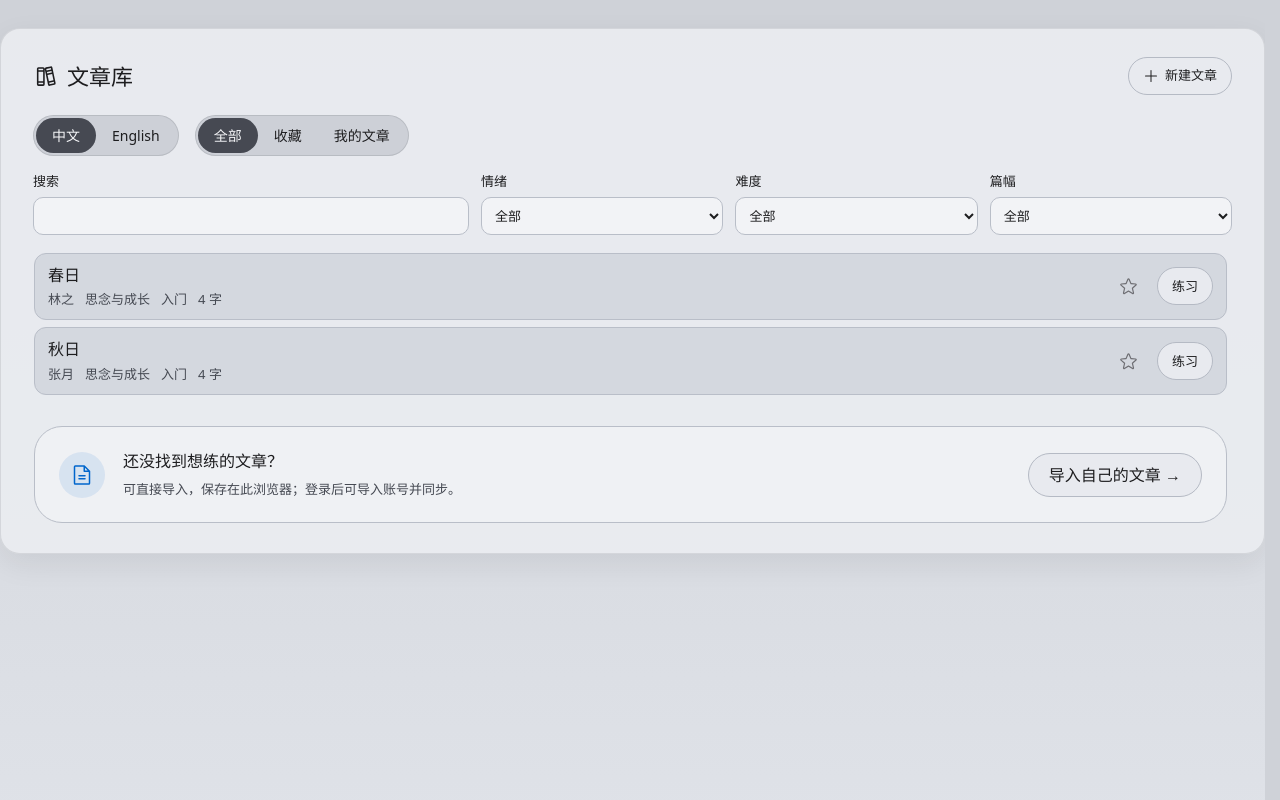
article library › applies author search to favorites and recovers when search is cleared
Click the button named "收藏《春日》" at point(1129, 286), box 1109,266 -> 1149,306
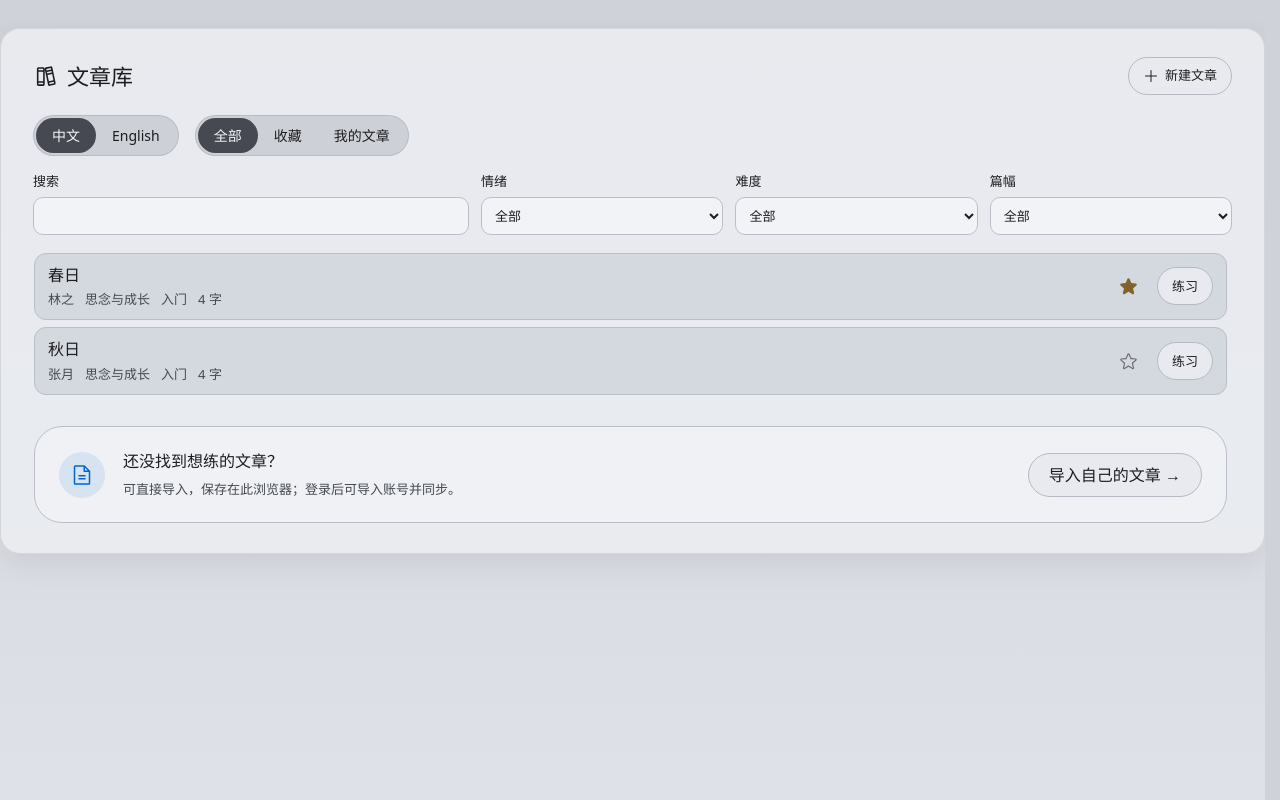
Click the button "收藏" at point(288, 136), box 258,118 -> 318,153
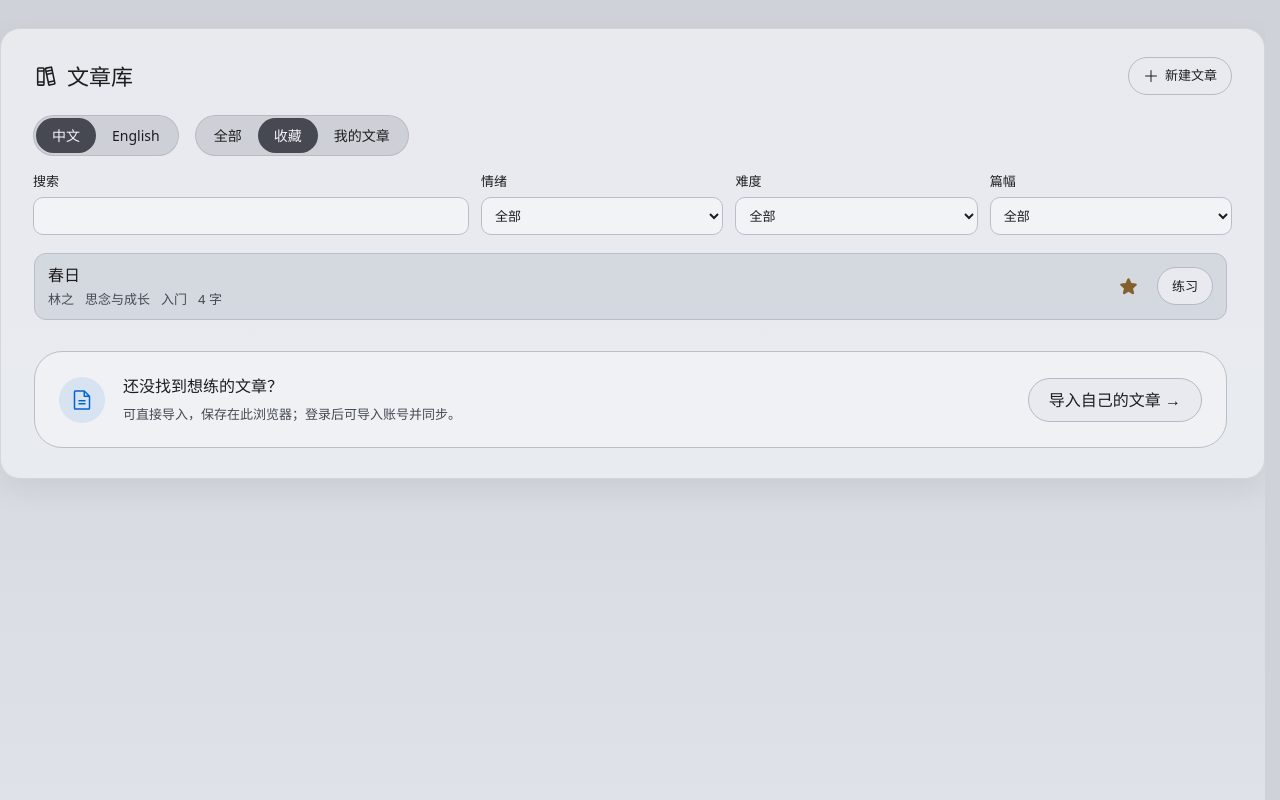
Type "张月" into the search field labelled "搜索" at point(251, 216), box 33,196 -> 469,234
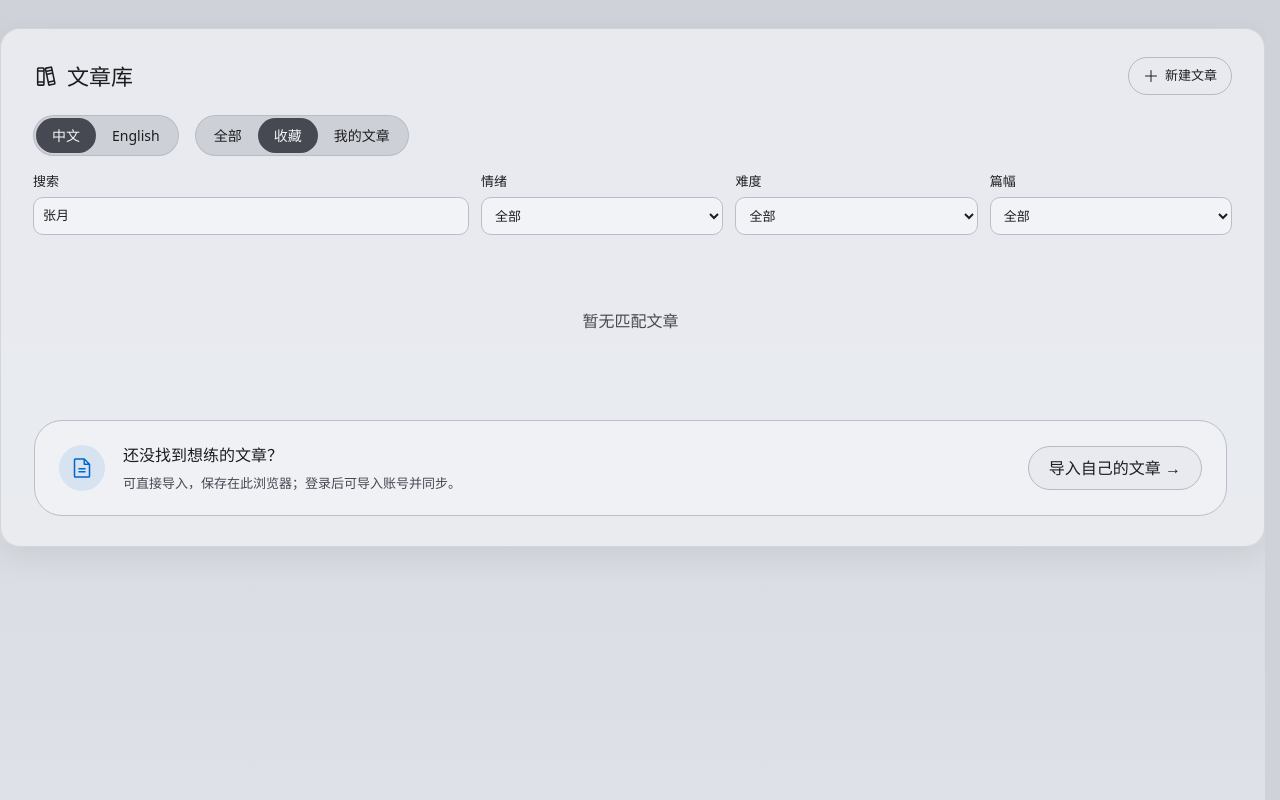
Check: the heading "秋日" is not shown
Check: the heading "春日" is gone
Check: the text "暂无匹配文章" is shown, box 582,310 -> 678,332
Replace the text in the search field labelled "搜索" with "林之" at point(251, 216), box 33,196 -> 469,234
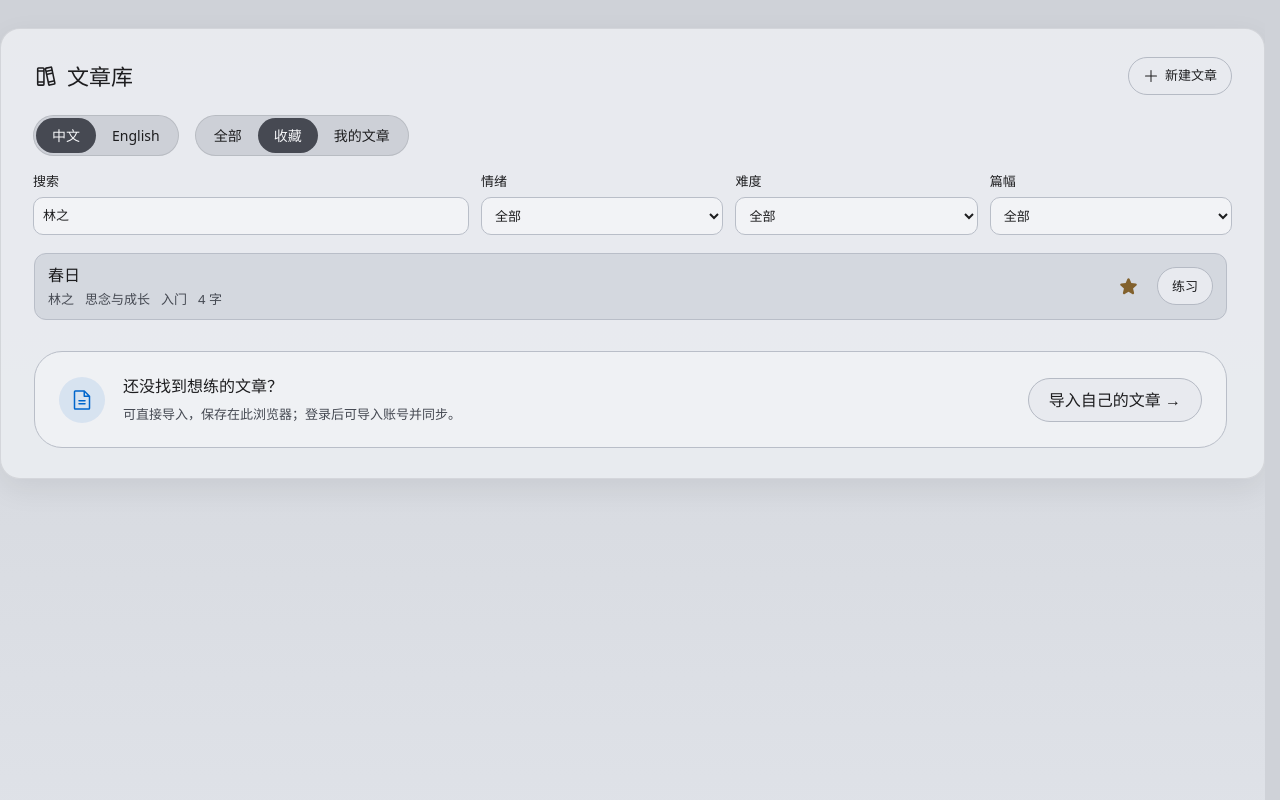
Check: the heading "秋日" is not shown
Check: the heading "春日" is shown, box 48,264 -> 80,286
